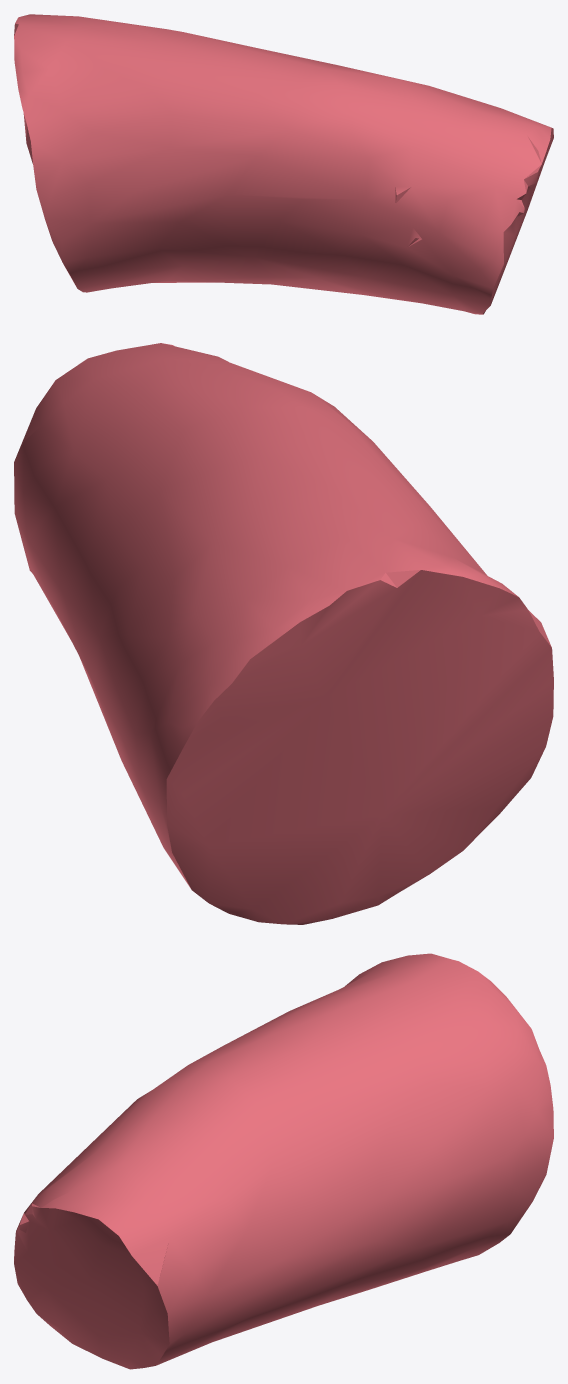
File: fma4685_mm557.glb
3 views of the same model, one above another, from view 1: azimuth 30°, elevation 25°; view 2: azimuth 150°, elevation 25°; view 3: azimuth 270°, elevation 25° (orthographic). The views are drawn at different scales.
Visible parts, largest first — view 1: FMA4685_MM557; view 2: FMA4685_MM557; view 3: FMA4685_MM557.
Part boxes in pixels (box(x1,y1,x2,y2)): FMA4685_MM557: box(14, 14, 553, 314); FMA4685_MM557: box(14, 343, 553, 924); FMA4685_MM557: box(14, 953, 553, 1369).
Size of the model in its own units: 0.00894 by 0.00506 by 0.00919.
